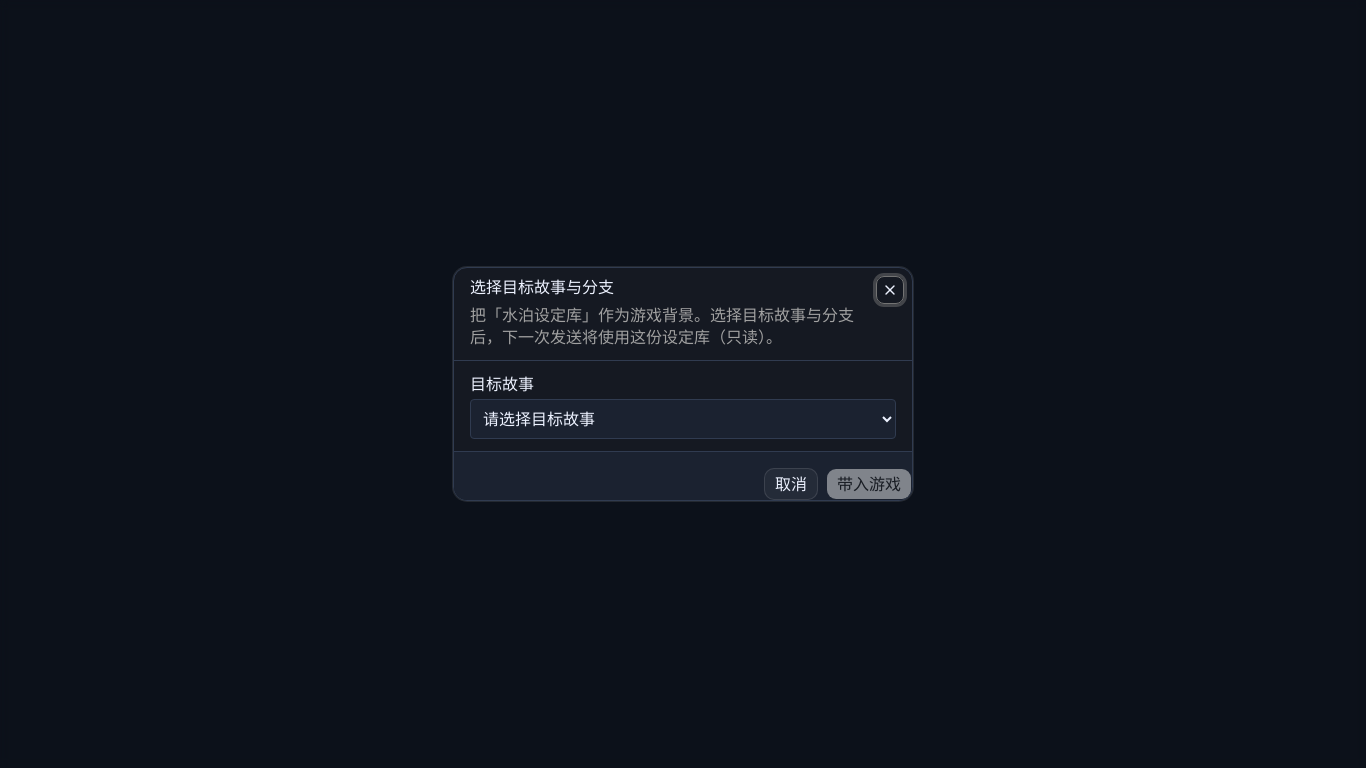
LibraryGameLaunchDialog failures and defaults (B3b) › injects the main branch and defaults to it when the server branch list omits it
Select "水泊故事" in the dropdown labelled "目标故事" at (683, 419), box [470,399,896,439]
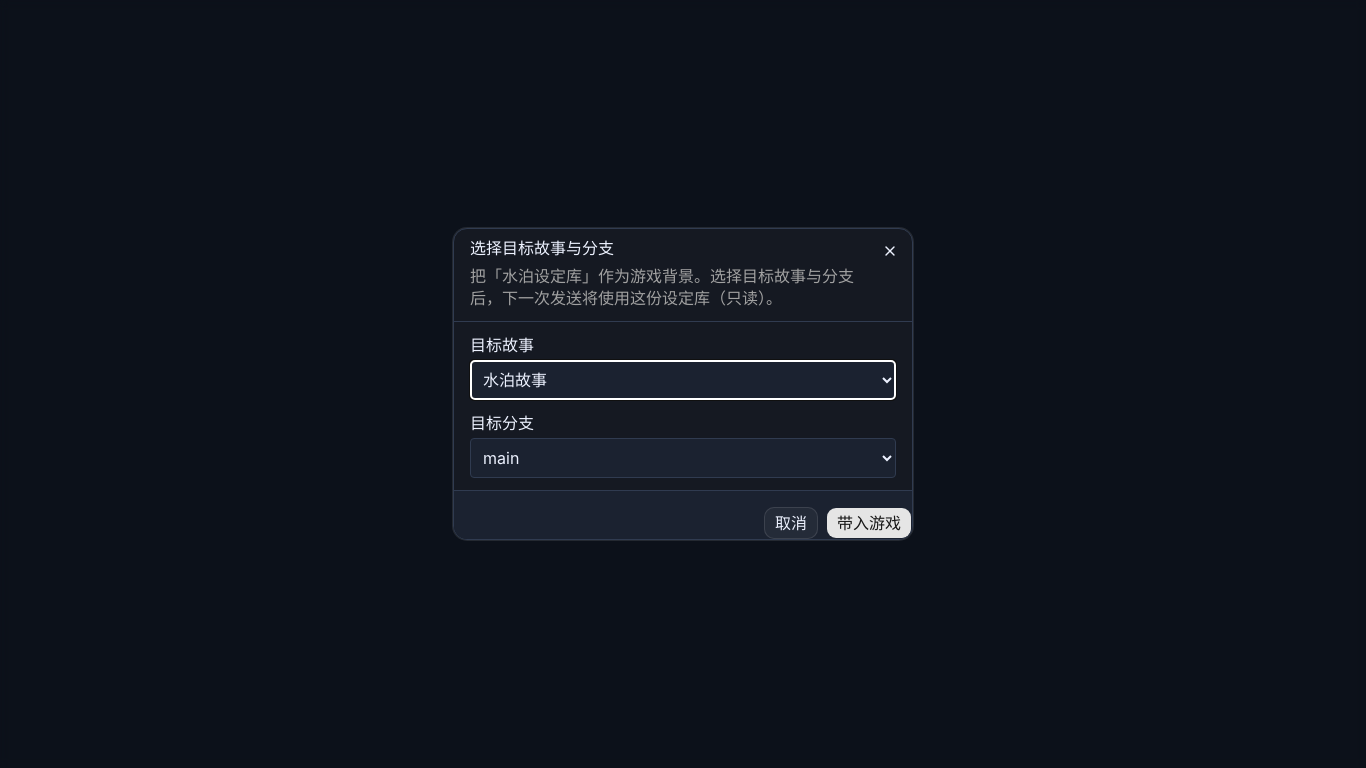
Result: the dropdown labelled "目标分支" is enabled at [470,438,896,478]
Result: the dropdown labelled "目标分支" shows "main" at [470,438,896,478]
